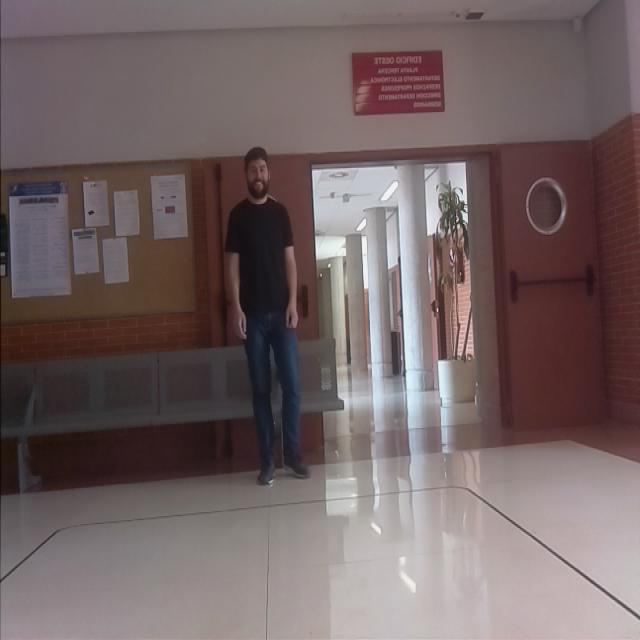person: (216, 144, 313, 490)
